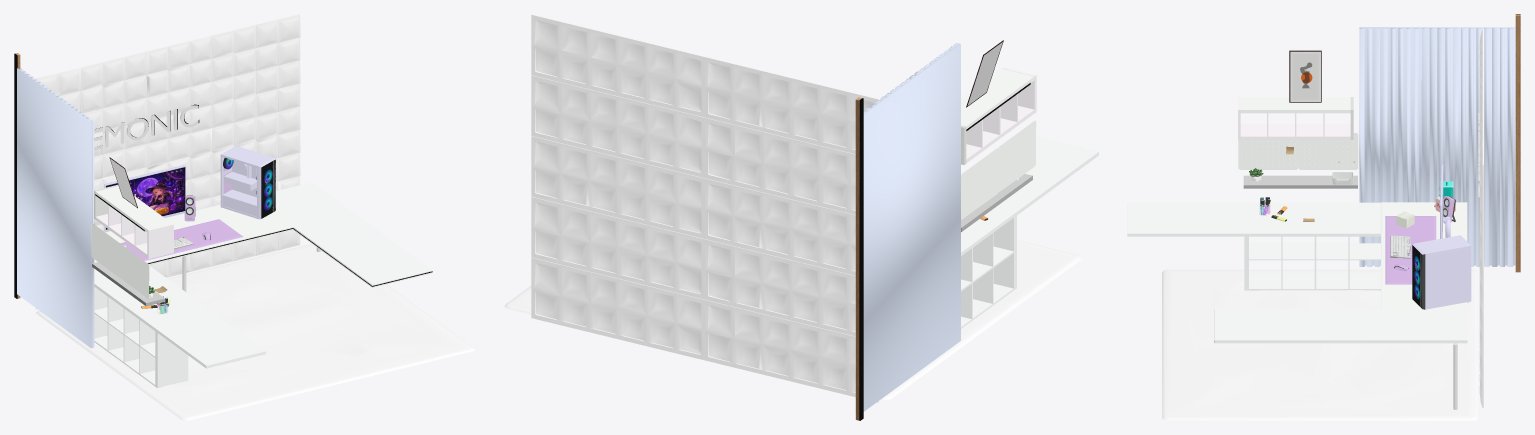
The model's file is isometric-girl-room.glb.
3 views of the same model, side by side, from view 1: azimuth 30°, elevation 25°; view 2: azimuth 150°, elevation 25°; view 3: azimuth 270°, elevation 25° (orthographic). The views are drawn at different scales.
Visible parts, largest first — view 1: Cube Shelf, MousePAd, Acoustic wood_block.001, Object_4.013, Cube.004_0, Screen, Object_6.010, Acoustic wood_endPiece (use this to end your wall or cut blo, Shelf 1; view 2: Cube Shelf, Acoustic wood_block.001, MousePAd, Acoustic wood_endPiece (use this to end your wall or cut blo, Cube.004_0, Shelf 1; view 3: MousePAd, Acoustic wood_block.001, Cube Shelf, Object_4.013, Cube.004_0, Acoustic wood_endPiece (use this to end your wall or cut blo, Shelf 1, picture.001, Object_6.010.
Boxes of the visible parts, x1=… form: Cube Shelf: x1=36, y1=14, x2=432, y2=388; MousePAd: x1=36, y1=105, x2=475, y2=420; Acoustic wood_block.001: x1=17, y1=68, x2=171, y2=348; Object_4.013: x1=220, y1=146, x2=275, y2=219; Cube.004_0: x1=94, y1=184, x2=173, y2=258; Screen: x1=106, y1=167, x2=185, y2=229; Object_6.010: x1=223, y1=158, x2=275, y2=218; Acoustic wood_endPiece (use this to end your wall or cut blo: x1=14, y1=53, x2=20, y2=298; Shelf 1: x1=92, y1=237, x2=193, y2=306; Cube Shelf: x1=531, y1=14, x2=1098, y2=402; Acoustic wood_block.001: x1=863, y1=43, x2=1034, y2=411; MousePAd: x1=504, y1=42, x2=1082, y2=400; Acoustic wood_endPiece (use this to end your wall or cut blo: x1=855, y1=97, x2=863, y2=420; Cube.004_0: x1=961, y1=67, x2=1036, y2=164; Shelf 1: x1=961, y1=174, x2=1032, y2=231; MousePAd: x1=1162, y1=51, x2=1479, y2=420; Acoustic wood_block.001: x1=1240, y1=27, x2=1515, y2=266; Cube Shelf: x1=1127, y1=29, x2=1483, y2=407; Object_4.013: x1=1413, y1=235, x2=1471, y2=309; Cube.004_0: x1=1238, y1=97, x2=1353, y2=139; Acoustic wood_endPiece (use this to end your wall or cut blo: x1=1515, y1=14, x2=1520, y2=272; Shelf 1: x1=1243, y1=175, x2=1410, y2=258; picture.001: x1=1292, y1=54, x2=1318, y2=99; Object_6.010: x1=1412, y1=245, x2=1425, y2=309.
Size of the model in its own units: 1.37 by 1.09 by 1.51.
32 materials, 30 textured.
